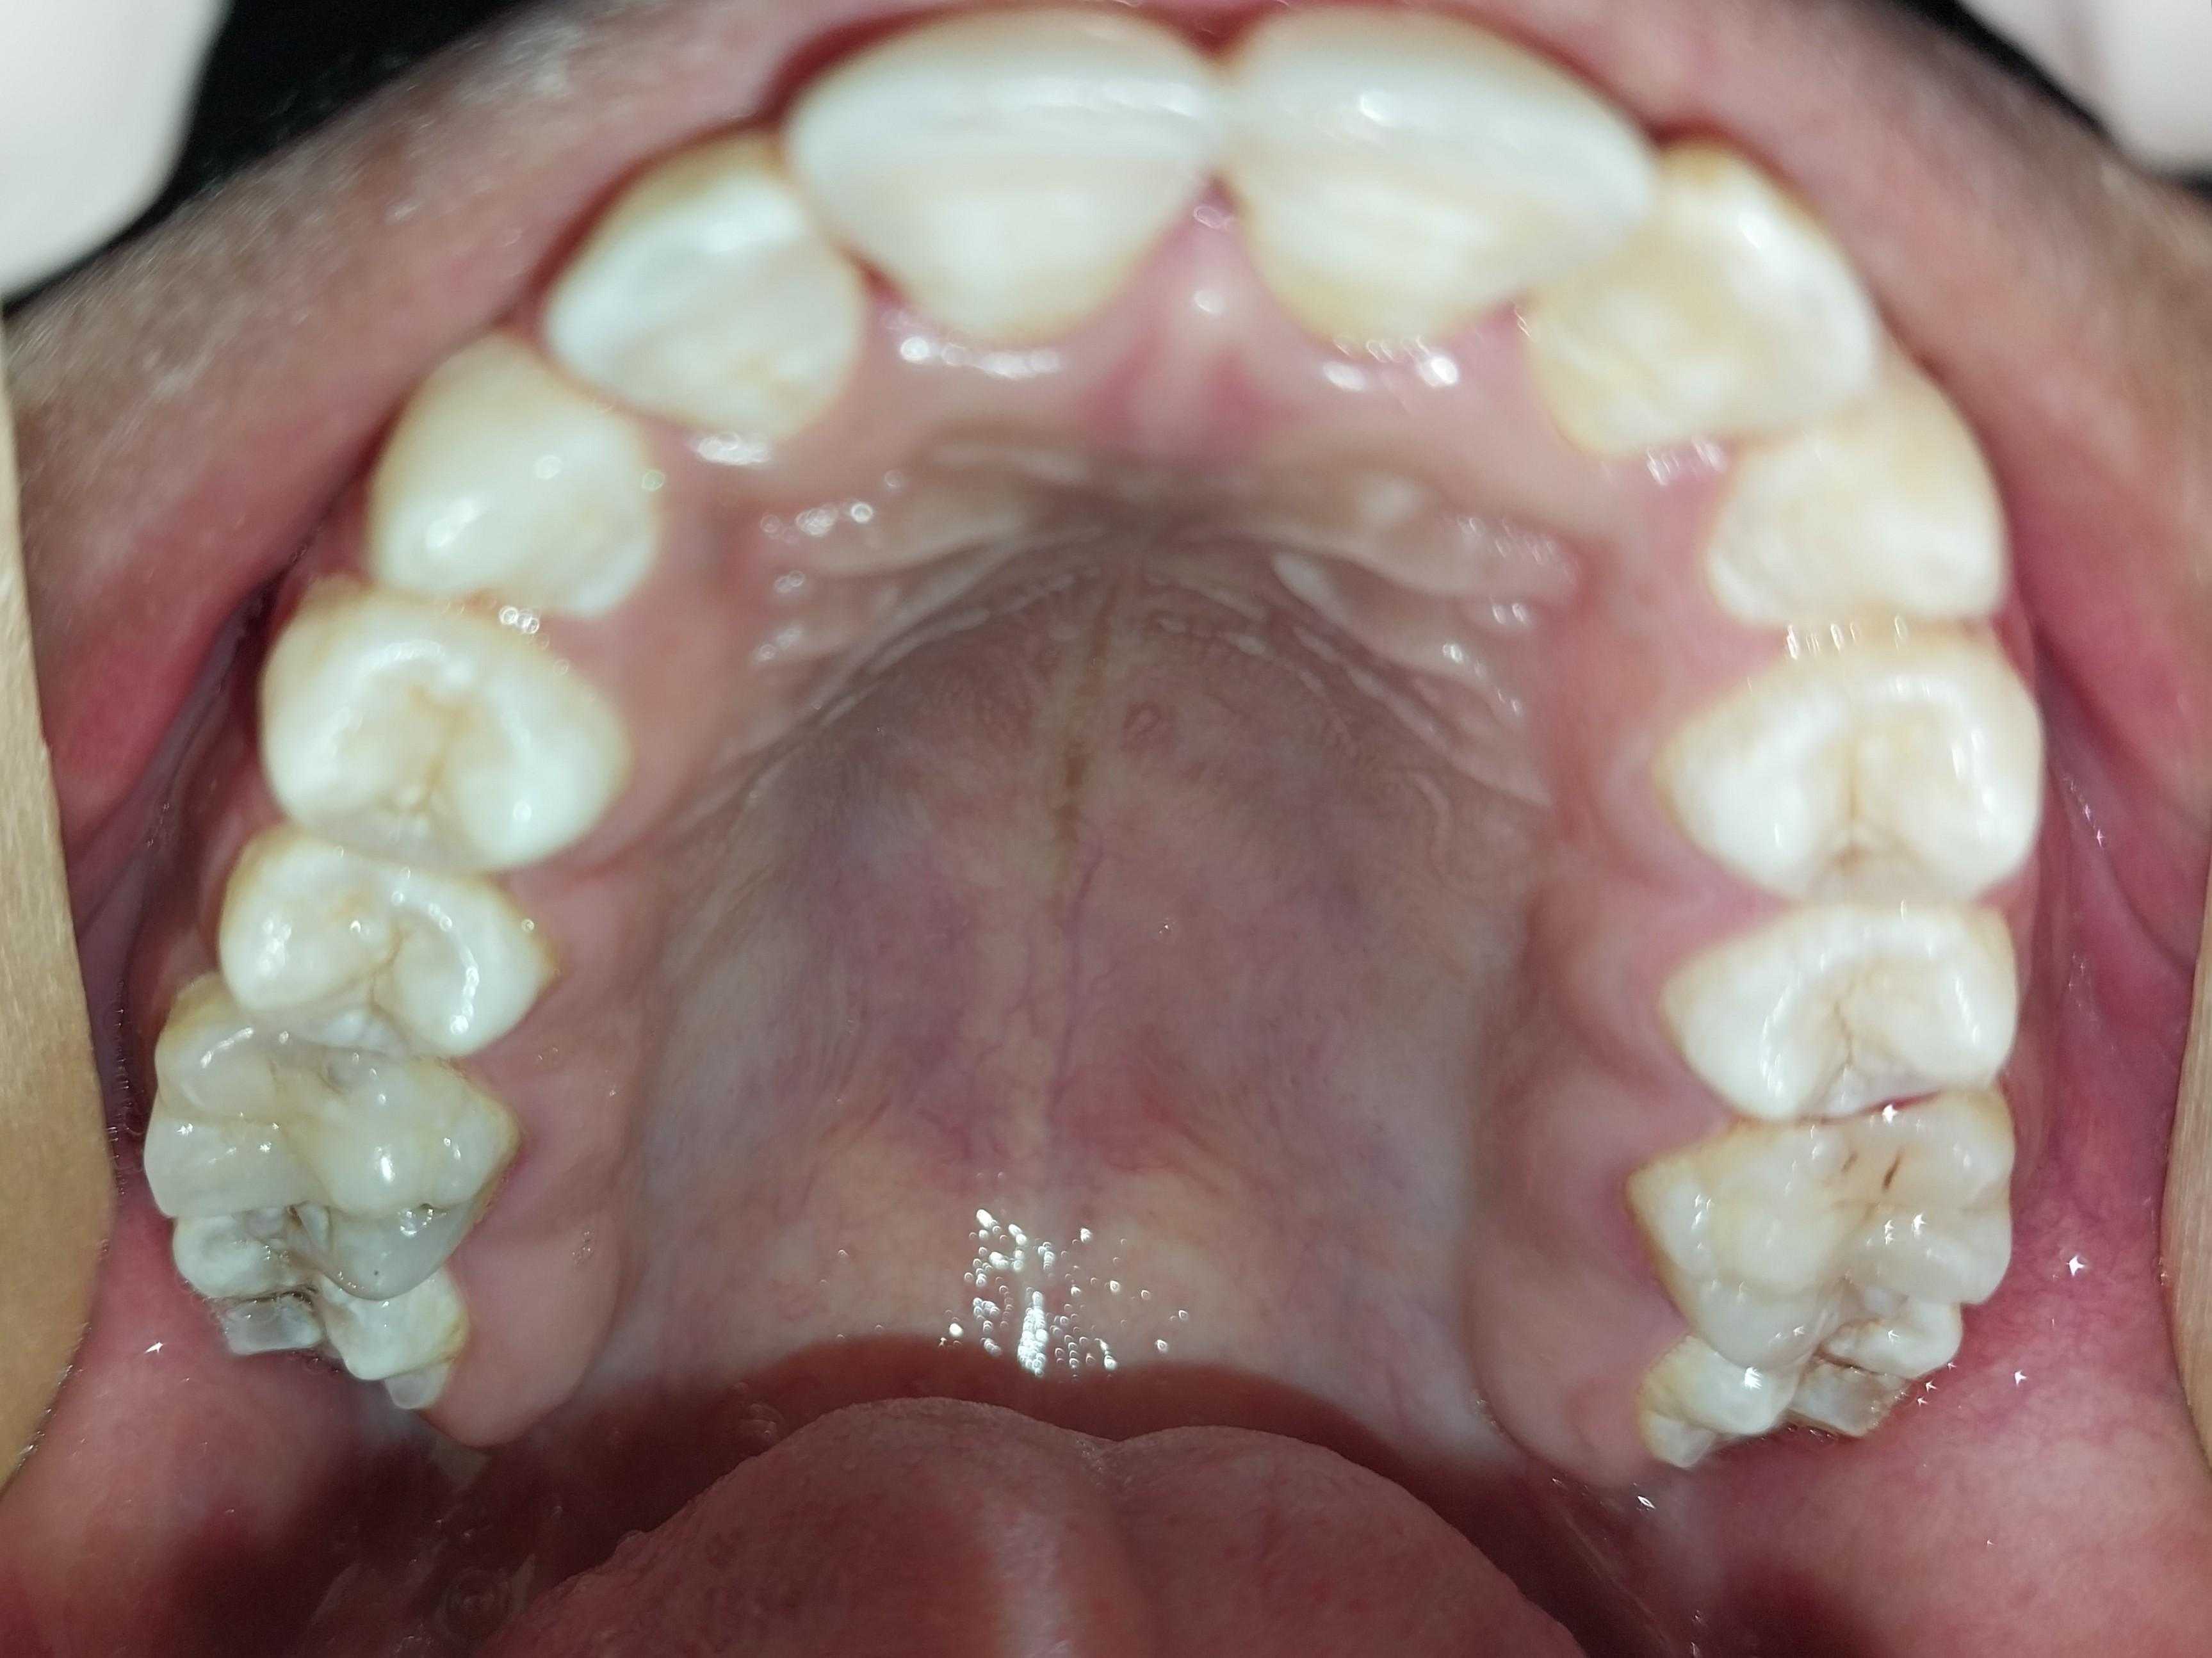D: (143, 1007, 503, 1297), (175, 1243, 456, 1409)
